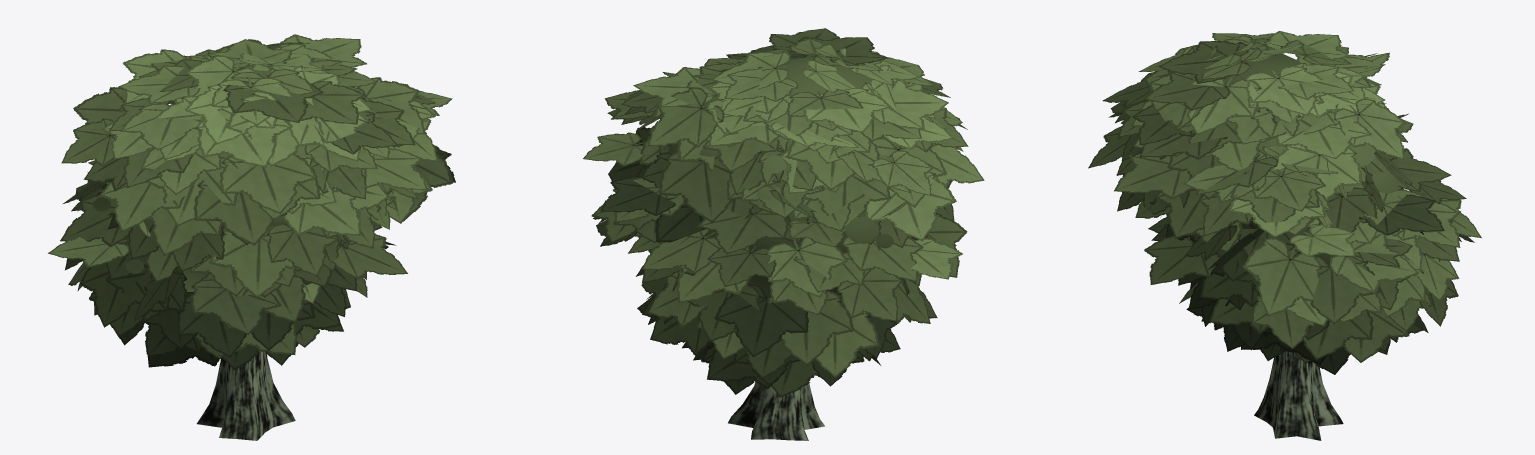
The model's file is ZonTree06.glb.
The picture shows the model from 3 angles, left to right: view 1: azimuth 30°, elevation 25°; view 2: azimuth 150°, elevation 25°; view 3: azimuth 270°, elevation 25°; orthographic projection. The views are drawn at different scales.
Visible parts, largest first — view 1: ZonTree06_leaves; view 2: ZonTree06_leaves; view 3: ZonTree06_leaves.
Part boxes in pixels (bbox=[...]): ZonTree06_leaves: bbox=[48, 34, 455, 440]; ZonTree06_leaves: bbox=[583, 28, 984, 440]; ZonTree06_leaves: bbox=[1088, 31, 1481, 440].
Bounding box in the file's own units: 14.24 × 11.24 × 13.29.
3 materials, 2 textured.
